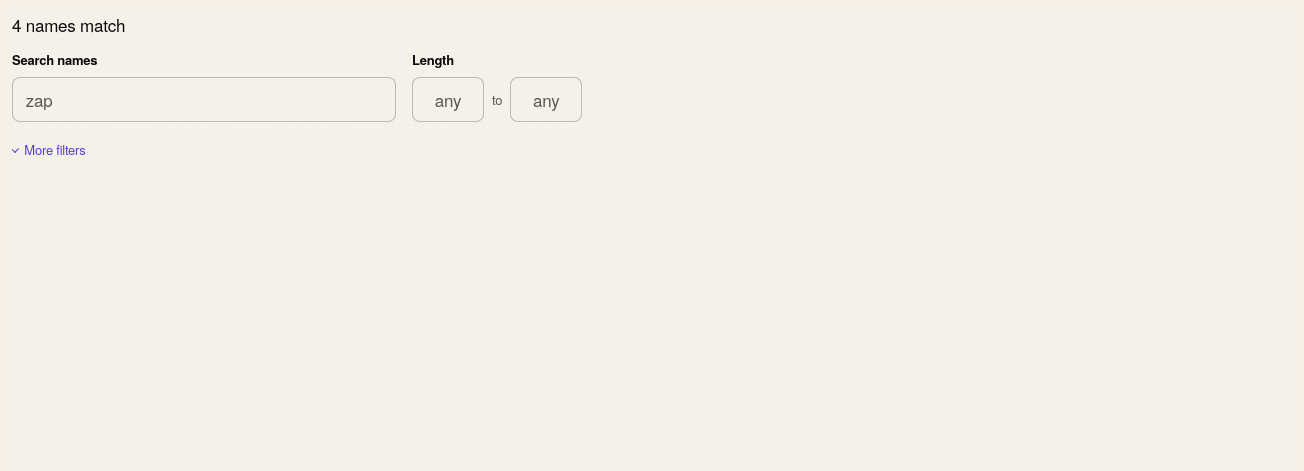
Test: Toolbar source list › offers each list with its own name count and writes the choice to the link
Click the heading "More filters". click: (49, 150)
box: [12,134,86,166]
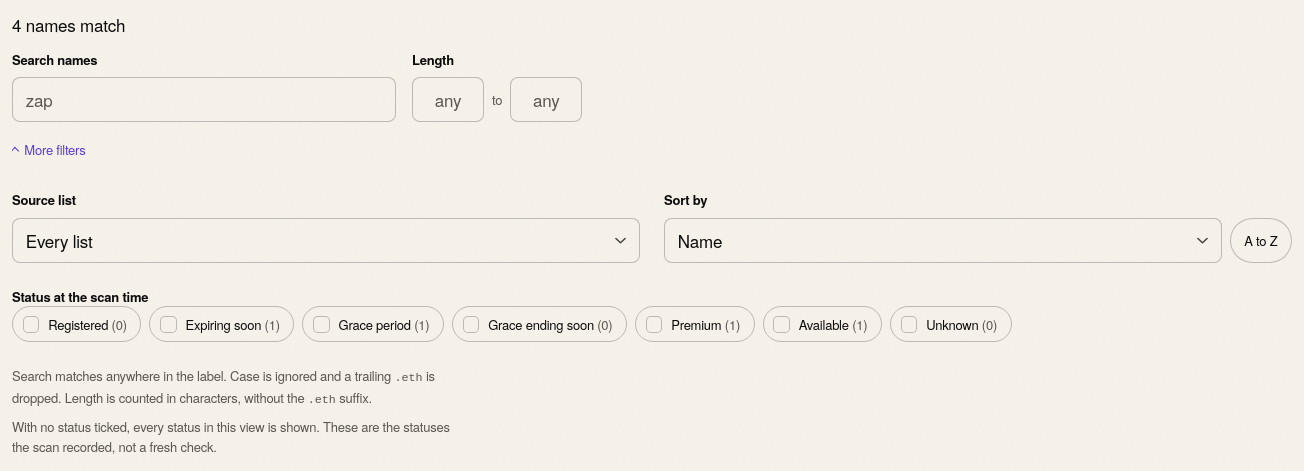
Select "data/words/4-letters.txt (3)" in the dropdown labelled "Source list". click: (326, 240)
box: [12,218,640,263]
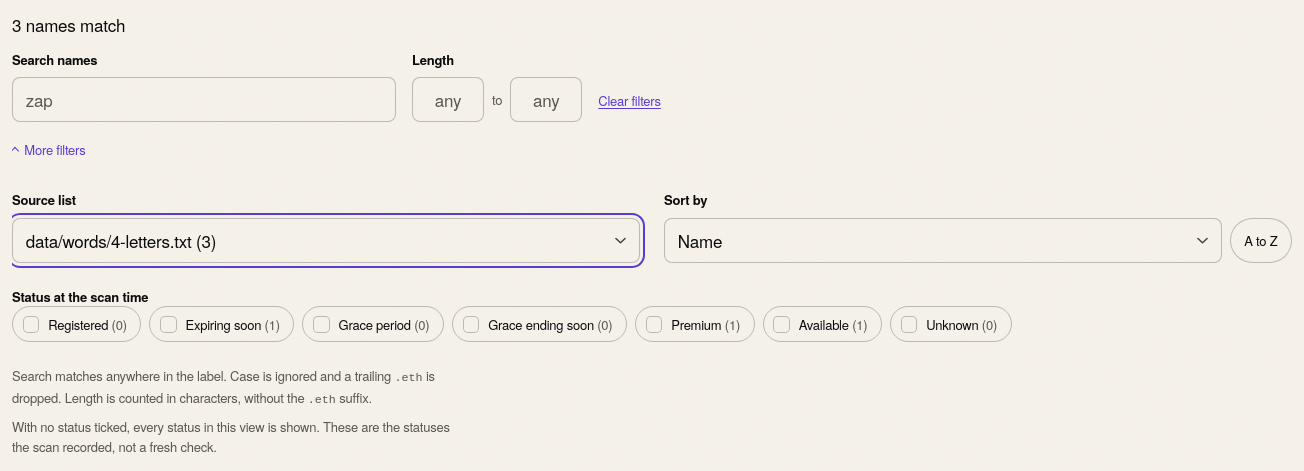
Expected: the message reads "3 names match", [12,12,125,37]
